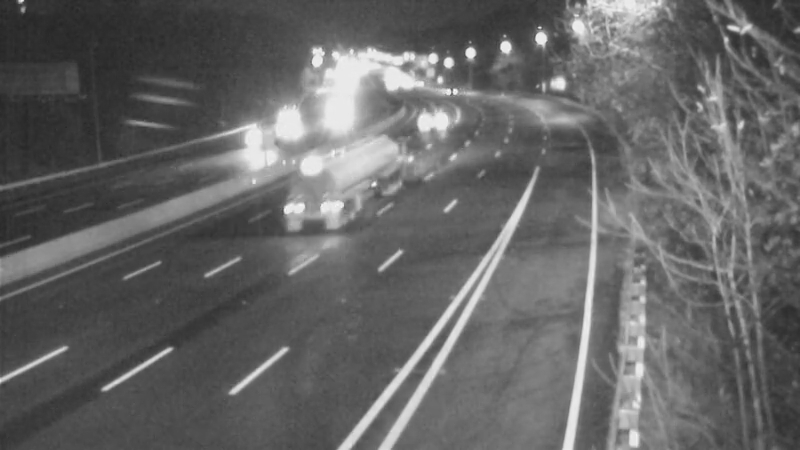vehicle: (273, 155, 353, 235), (209, 113, 289, 193), (423, 65, 473, 115), (398, 96, 448, 146), (263, 99, 313, 149), (310, 83, 360, 133)
